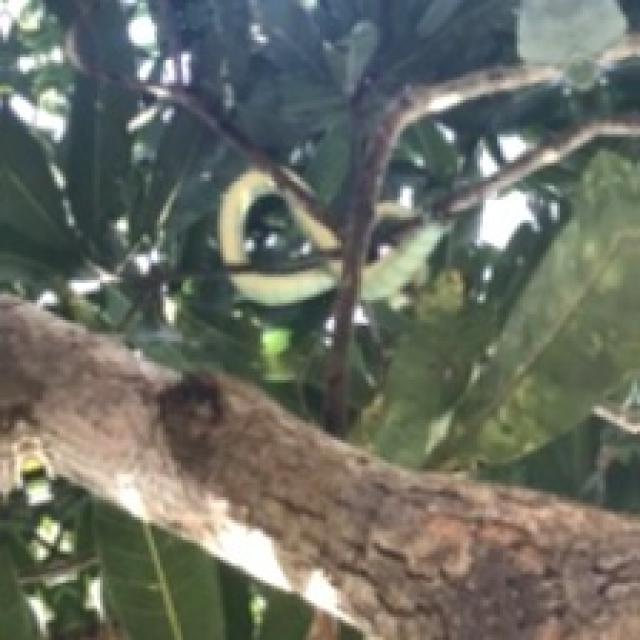north ph temple pitviper: (217, 63, 637, 326)
